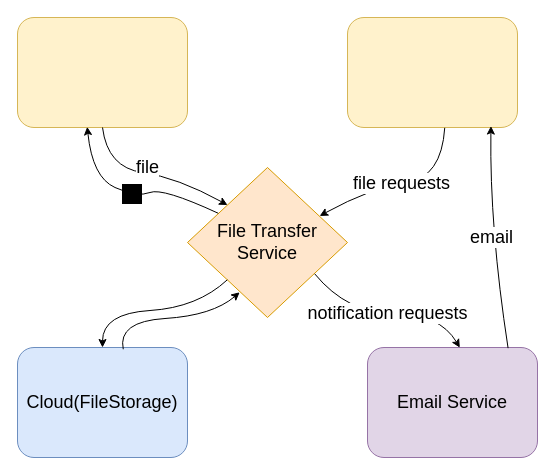
The diagram is 555 pixels wide and 475 high, and some of its shapes have lost their labels. Each missing label, with the box of its shape:
Recepient: (346, 16, 518, 128)
Sender: (16, 16, 188, 128)
